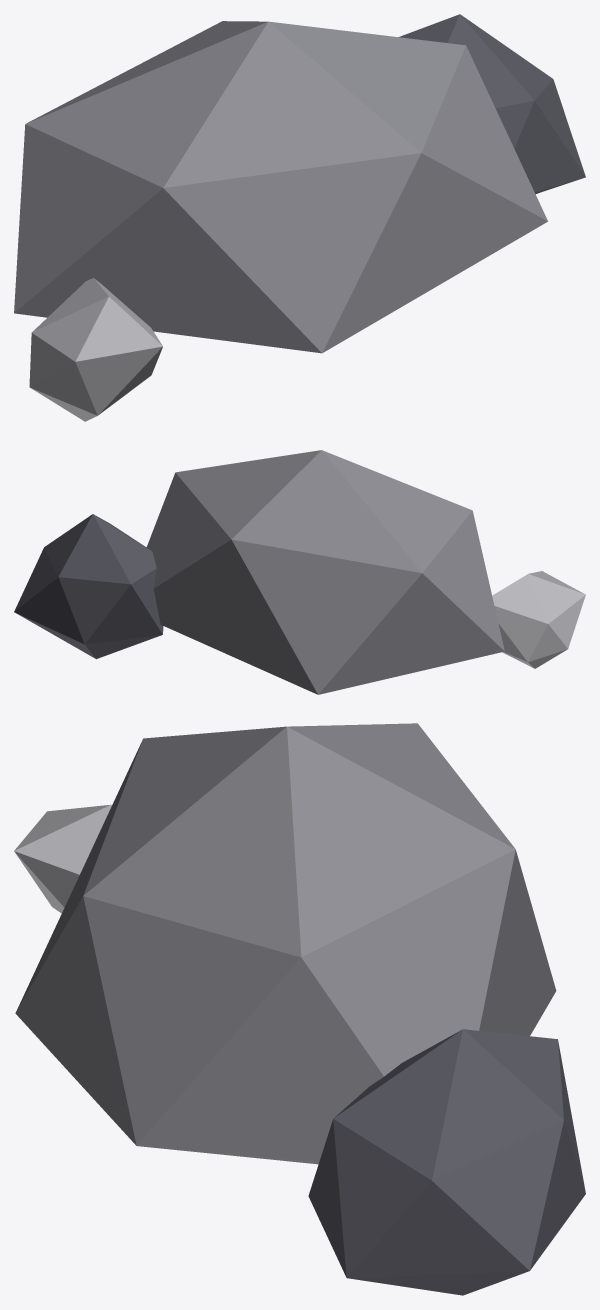
The model's file is Rocks.glb.
3 views of the same model, one above another, from view 1: azimuth 30°, elevation 25°; view 2: azimuth 150°, elevation 25°; view 3: azimuth 270°, elevation 25° (orthographic). The views are drawn at different scales.
Parts seen in each view (by area): view 1: Rocks; view 2: Rocks; view 3: Rocks.
Part boxes in pixels (x1,y1,x2,y2): Rocks: [14, 14, 585, 421]; Rocks: [14, 450, 585, 694]; Rocks: [14, 723, 585, 1295].
Bounding box in the file's own units: 2.37 × 1.12 × 1.4.
Materials: 1 (1 with a texture image).
